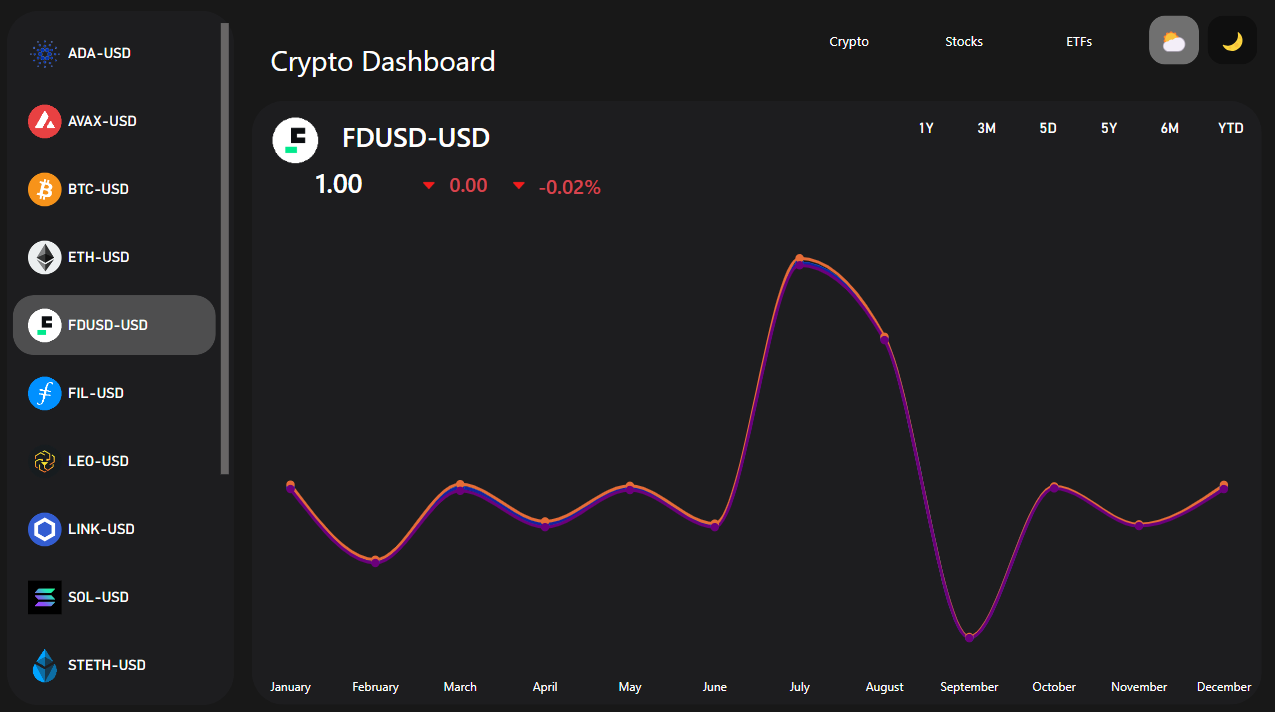

This screenshot's page, from the dashboard's own definition file:
{"tool":"powerbi","page":{"name":"Crypto","canvas":[1280,720],"ordinal":0},"visuals":[{"type":"shape","box":[0,0,1280.3,720.2],"z":0},{"type":"shape","box":[254.3,103.9,1010.1,604.1],"z":1000},{"type":"shape","box":[8.6,13.5,227.4,694.6],"z":2000},{"type":"lineChart","fields":{"Category":["Stocks Data.Date.Variation.Date Hierarchy.Year","Stocks Data.Date.Variation.Date Hierarchy.Quarter","Stocks Data.Date.Variation.Date Hierarchy.Month","Stocks Data.Date.Variation.Date Hierarchy.Day"],"Y":["Sum(Stocks Data.Close)","Sum(Stocks Data.Open)","Sum(Stocks Data.High)","Sum(Stocks Data.Low)"]},"box":[254.3,215.2,1011.3,492.8],"z":3000},{"type":"advancedSlicerVisual","fields":{"Values":["Stocks Data.Symbol"]},"box":[9.8,20.8,226.2,687.2],"z":4000},{"type":"advancedSlicerVisual","fields":{"Values":["Color Codes.Icon"]},"box":[1145.8,13.5,118.6,59.9],"z":5000},{"type":"advancedSlicerVisual","fields":{"Values":["Stocks Data.Date Category"]},"box":[896.3,103.9,368.1,48.9],"z":6000},{"type":"cardVisual","fields":{"Data":["Min(Stocks Data.Logo)"]},"box":[254.3,103.9,91.7,75.8],"z":7000},{"type":"card","fields":{"Values":["Min(Stocks Data.Symbol)"]},"box":[327.7,112.5,181,57.5],"z":8000},{"type":"card","fields":{"Values":["Stocks Data.Open_Value"]},"box":[281.3,162.6,119.8,48.9],"z":9000},{"type":"card","fields":{"Values":["Stocks Data.Open_Close_diff"]},"box":[432.9,165.1,75.8,48.9],"z":10000},{"type":"card","fields":{"Values":["Stocks Data.Diff %"]},"box":[533.2,166.3,75.8,48.9],"z":11000},{"type":"cardVisual","fields":{"Data":["Min(Stocks Data.Logo)"]},"box":[401.1,162.6,63.6,52.6],"z":12000},{"type":"cardVisual","fields":{"Data":["Min(Stocks Data.Logo)"]},"box":[491.6,162.6,63.6,52.6],"z":13000},{"type":"shape","box":[272.7,20.8,412.1,83.2],"z":14000},{"type":"pageNavigator","box":[798.5,13.5,335.1,59.9],"z":15000}]}

Visuals, with their boxes in screenshot pixels (x1, y1, x2, y2), scaled from the page's 1280x720 canvas onto the 1275x712 screenshot:
shape: x1=0 y1=0 x2=1274 y2=711
shape: x1=253 y1=103 x2=1259 y2=700
shape: x1=9 y1=13 x2=235 y2=700
lineChart - Stocks Data.Date.Variation.Date Hierarchy.Year x Stocks Data.Date.Variation.Date Hierarchy.Quarter: x1=253 y1=213 x2=1261 y2=700
advancedSlicerVisual - Stocks Data.Symbol: x1=10 y1=21 x2=235 y2=700
advancedSlicerVisual - Color Codes.Icon: x1=1141 y1=13 x2=1259 y2=73
advancedSlicerVisual - Stocks Data.Date Category: x1=893 y1=103 x2=1259 y2=151
cardVisual - Min(Stocks Data.Logo): x1=253 y1=103 x2=345 y2=178
card - Min(Stocks Data.Symbol): x1=326 y1=111 x2=507 y2=168
card - Stocks Data.Open_Value: x1=280 y1=161 x2=400 y2=209
card - Stocks Data.Open_Close_diff: x1=431 y1=163 x2=507 y2=212
card - Stocks Data.Diff %: x1=531 y1=164 x2=607 y2=213
cardVisual - Min(Stocks Data.Logo): x1=400 y1=161 x2=463 y2=213
cardVisual - Min(Stocks Data.Logo): x1=490 y1=161 x2=553 y2=213
shape: x1=272 y1=21 x2=682 y2=103
pageNavigator: x1=795 y1=13 x2=1129 y2=73
